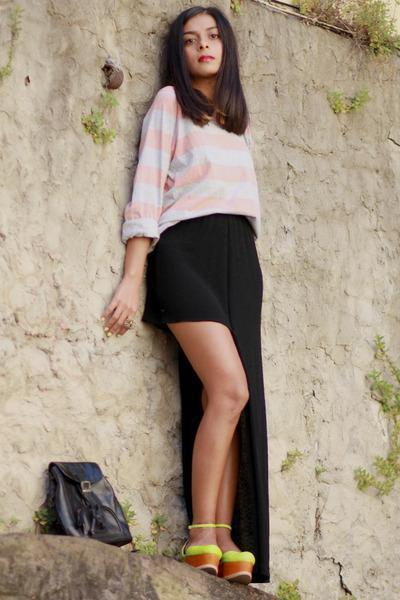bag: (35, 462, 135, 554)
shirt: (116, 86, 260, 241)
shoe: (162, 525, 254, 576)
skirt: (141, 213, 269, 585)
